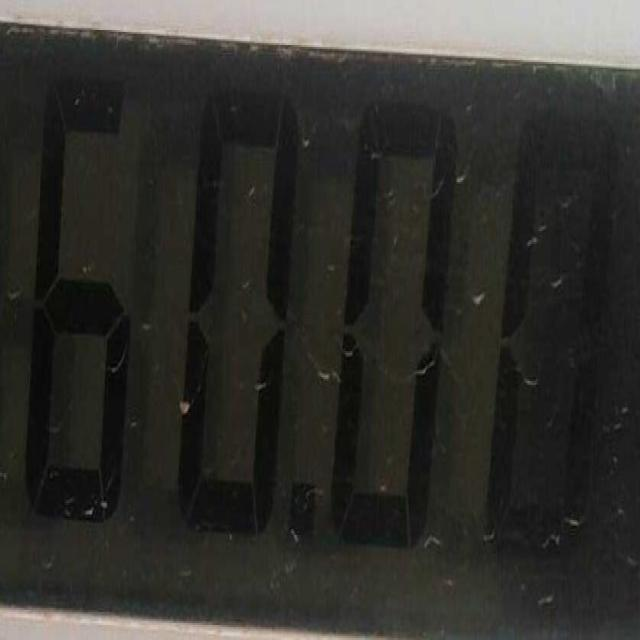.: (287, 462, 319, 544)
0: (489, 83, 622, 570), (331, 96, 462, 556), (173, 74, 300, 548)
6: (22, 70, 134, 528)
